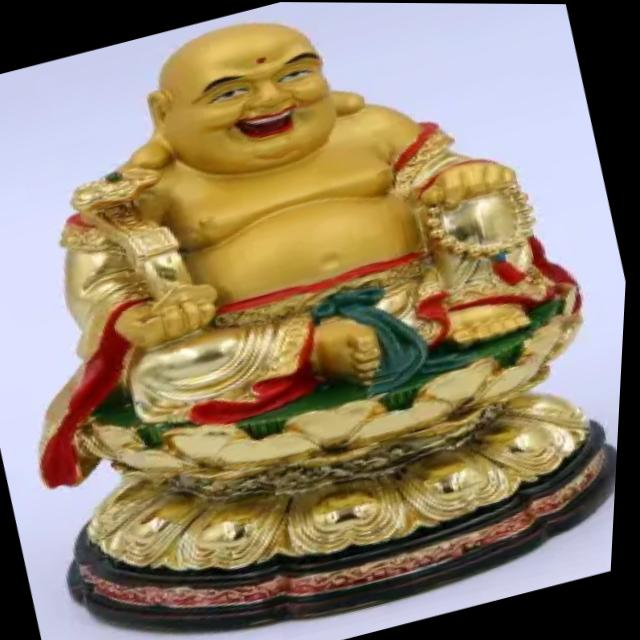Smiling Buddha: (8, 0, 569, 456)
